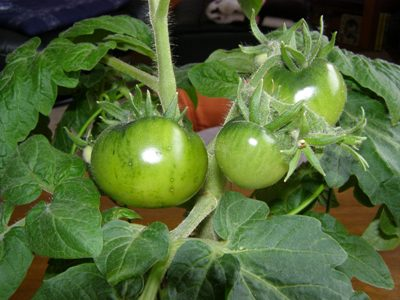stems: (115, 84, 163, 123), (248, 52, 299, 86)
tomato: (90, 116, 208, 209), (255, 58, 347, 141), (213, 120, 291, 189)
